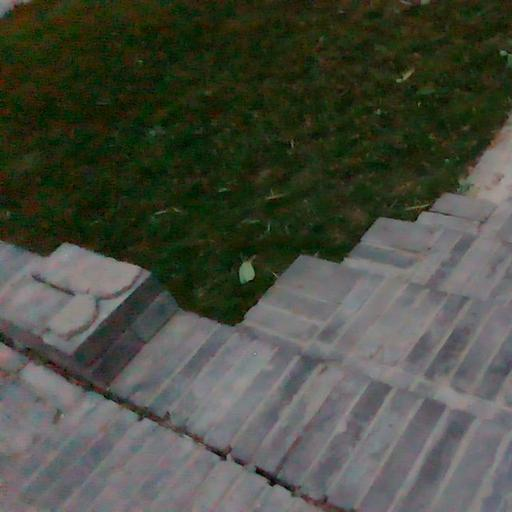stairs: (19, 195, 511, 511)
